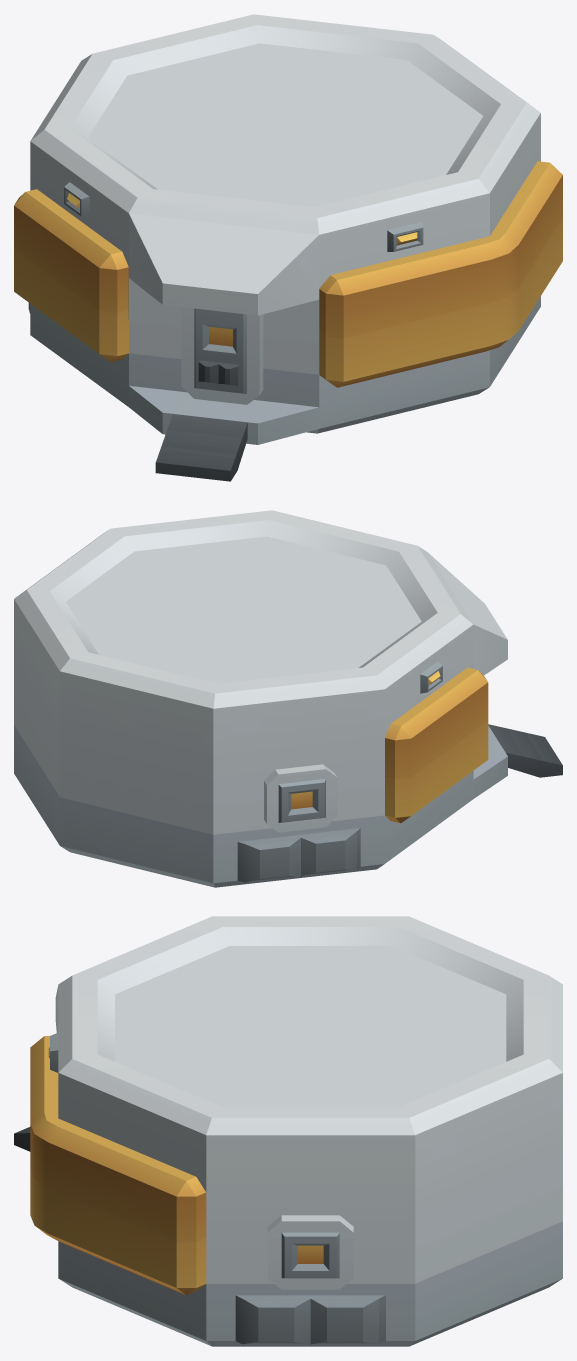
The model's file is space-base.glb.
3 views of the same model, one above another, from view 1: azimuth 30°, elevation 25°; view 2: azimuth 150°, elevation 25°; view 3: azimuth 270°, elevation 25° (orthographic). The views are drawn at different scales.
Visible parts, largest first — view 1: basemodule_A; view 2: basemodule_A; view 3: basemodule_A.
Part boxes in pixels (<box>): basemodule_A: <box>14,14,562,481</box>; basemodule_A: <box>14,510,562,887</box>; basemodule_A: <box>14,916,562,1346</box>.
Size of the model in its own units: 8.99 by 4 by 8.7.
Materials: 1 (1 with a texture image).
